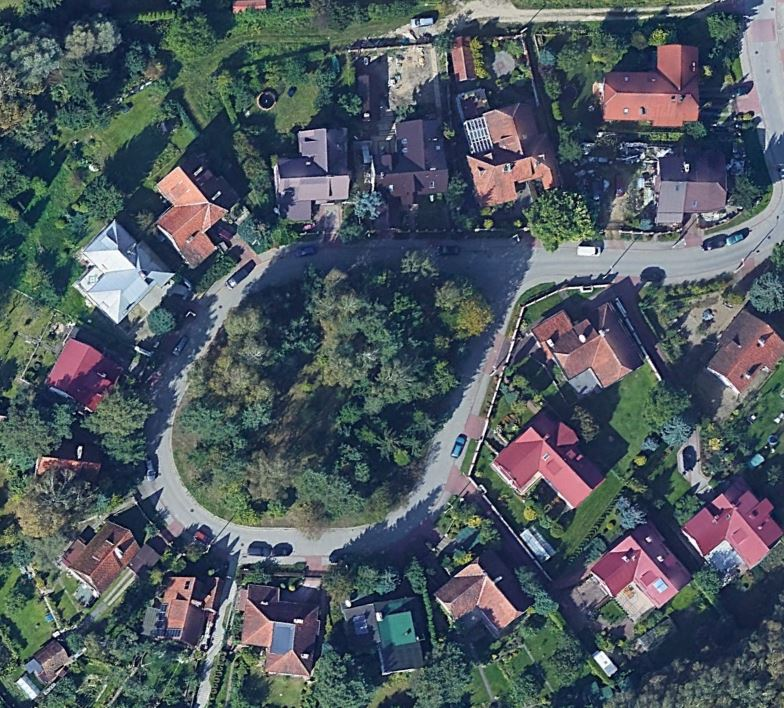family house: (526, 285, 645, 404), (489, 408, 608, 512), (150, 152, 249, 273), (70, 216, 177, 325), (461, 101, 564, 208), (678, 477, 784, 573), (433, 546, 537, 635), (272, 119, 356, 229), (601, 40, 704, 127), (366, 113, 452, 212), (239, 580, 323, 681), (338, 595, 431, 680), (705, 301, 784, 399), (52, 518, 143, 596), (41, 339, 129, 412), (650, 152, 733, 229), (149, 572, 227, 648), (29, 440, 110, 492)
